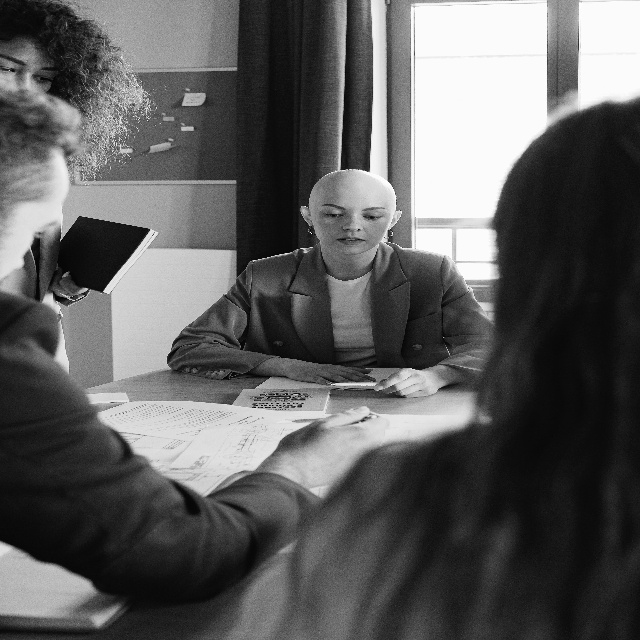Sin_guantes: (286, 405, 386, 476), (288, 353, 372, 398), (377, 364, 437, 402)
